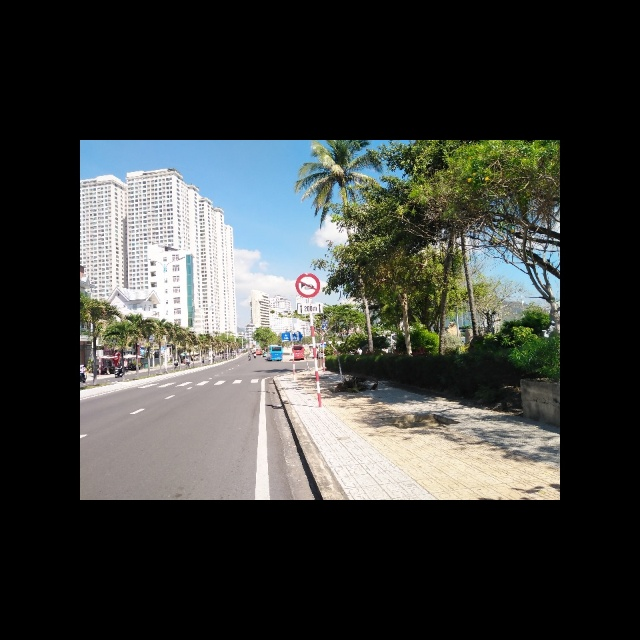Cấm bấm còi: (296, 273, 321, 298)
